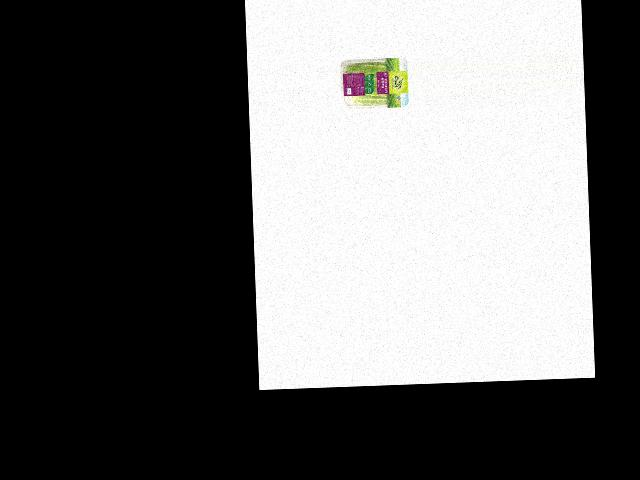lettuce: (339, 57, 404, 110)
